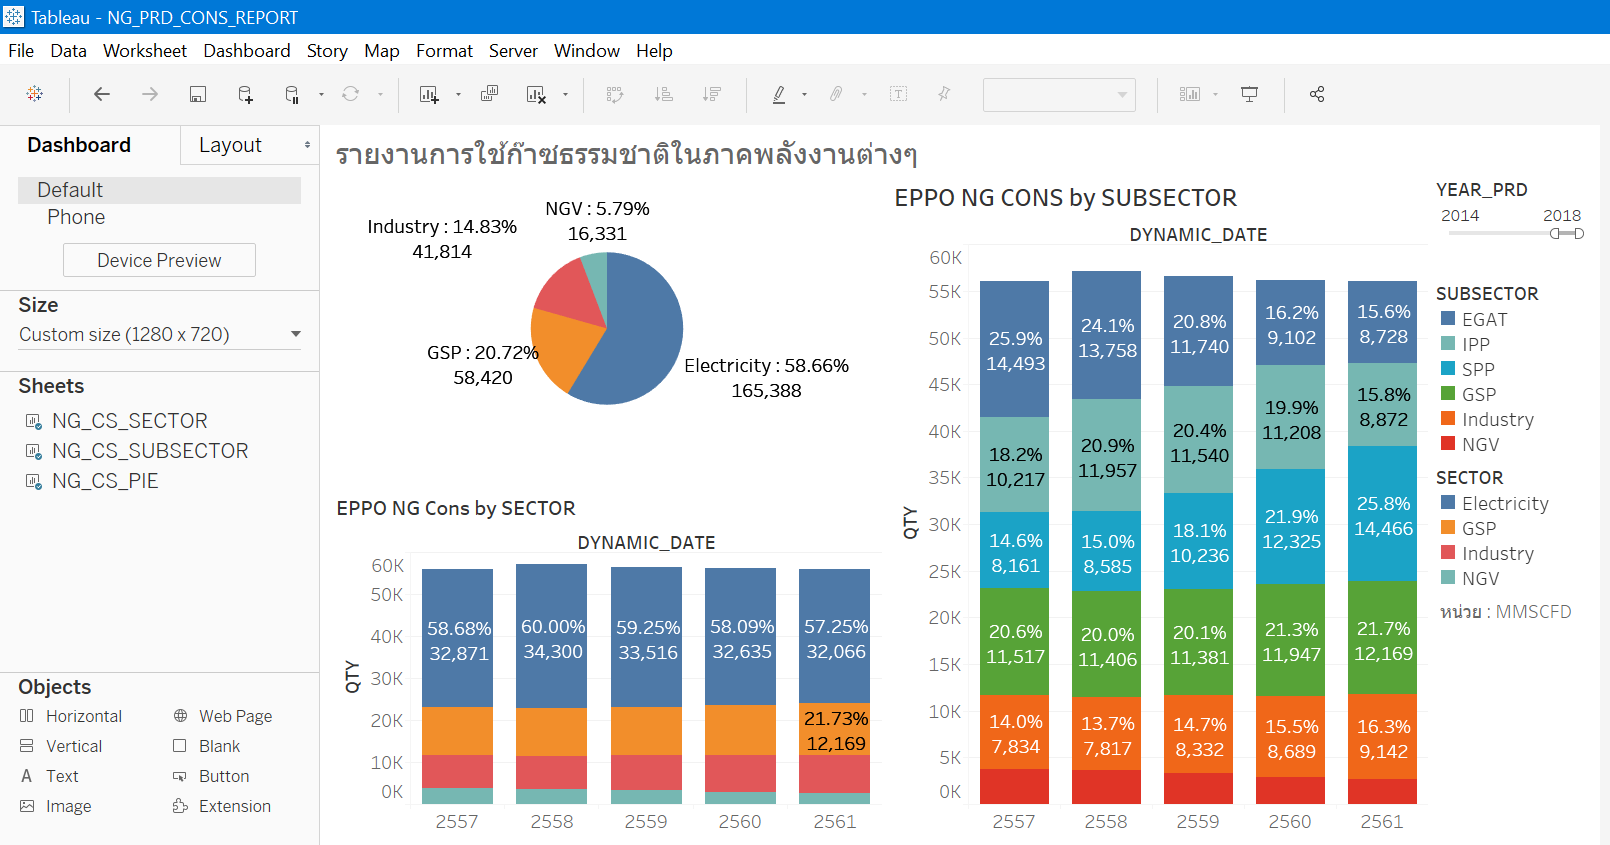

The page's visual inventory and layout, read from the dashboard file:
{"tool":"tableau","page":{"name":"NG Consumption","canvas":[1280,720],"ordinal":0},"visuals":[{"type":"text","box":[8,8,1264,39]},{"type":"worksheet","title":"NG_CS_PIE","mark":"Pie","box":[8,47,558,313]},{"type":"worksheet","title":"NG_CS_SUBSECTOR","mark":"Bar","rows":["QTY"],"cols":["Calculation_779122767331119106"],"box":[566,47,546,665]},{"type":"filter","title":"NG_CS_SUBSECTOR","param":"[federated.1z0n6i214yeerz142fjlh1owud6z].[none:YEAR_PRD:qk]","box":[1112,47,160,104]},{"type":"legend","title":"NG_CS_SUBSECTOR","param":"[federated.1z0n6i214yeerz142fjlh1owud6z].[none:SUBSECTOR:nk]","box":[1112,151,160,184]},{"type":"legend","title":"NG_CS_SECTOR","param":"[federated.1z0n6i214yeerz142fjlh1owud6z].[none:SECTOR:nk]","box":[1112,335,160,134]},{"type":"worksheet","title":"NG_CS_SECTOR","mark":"Bar","rows":["QTY"],"cols":["Calculation_779122767331119106"],"box":[8,360,558,352]},{"type":"text","box":[1112,469,160,33]}]}

Visuals, with their boxes in screenshot pixels (x1, y1, x2, y2):
text: 0, 0, 1413, 29
"NG_CS_PIE" worksheet (Pie marks): 0, 29, 594, 392
"NG_CS_SUBSECTOR" worksheet (Bar marks): 594, 29, 1227, 801
"NG_CS_SUBSECTOR" filter: 1227, 29, 1413, 150
"NG_CS_SUBSECTOR" legend: 1227, 150, 1413, 363
"NG_CS_SECTOR" legend: 1227, 363, 1413, 519
"NG_CS_SECTOR" worksheet (Bar marks): 0, 392, 594, 801
text: 1227, 519, 1413, 557
